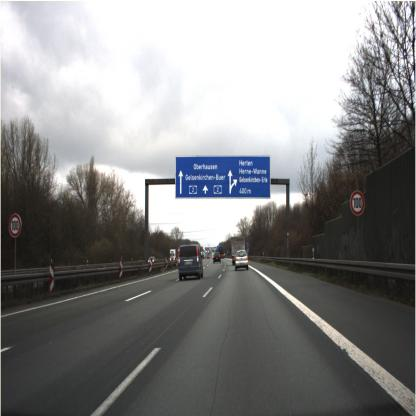speed limit 100: (350, 190, 365, 216), (8, 213, 22, 237)
